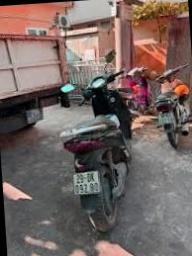Bien-so: (67, 163, 95, 183), (157, 110, 173, 123)
